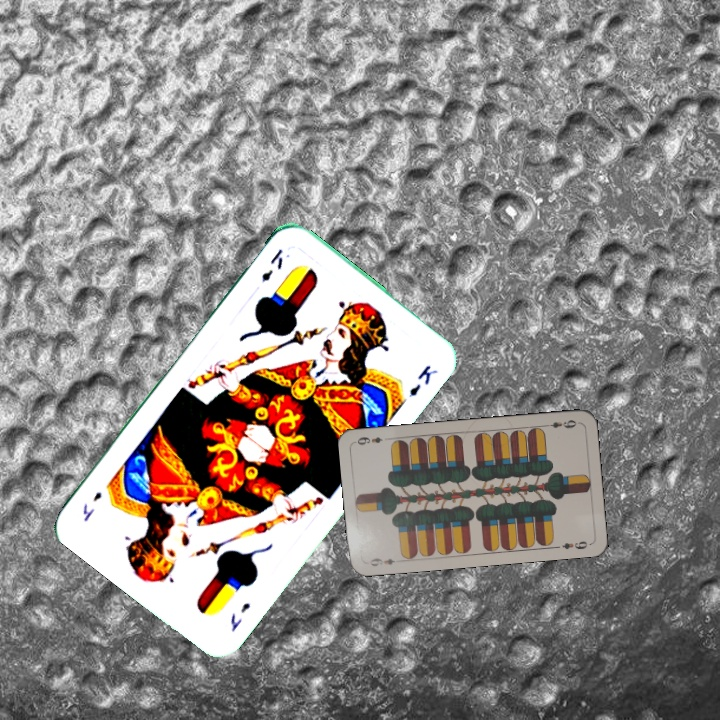E9: (540, 416, 581, 431), (366, 554, 397, 569)
EK: (257, 245, 286, 285), (226, 598, 253, 634)
